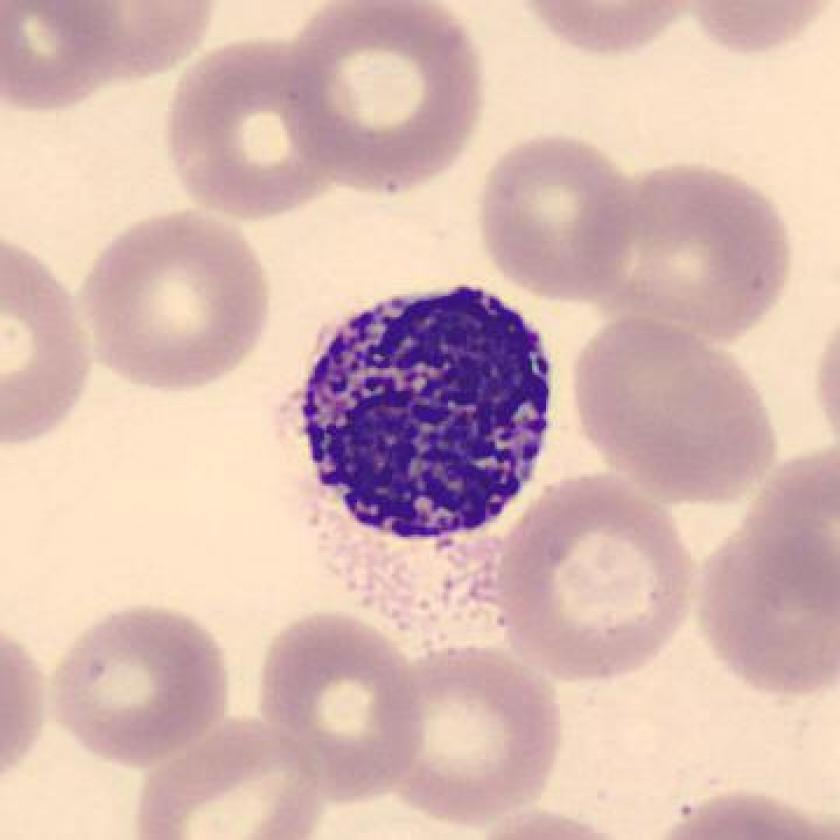basophil: (281, 274, 561, 552)
